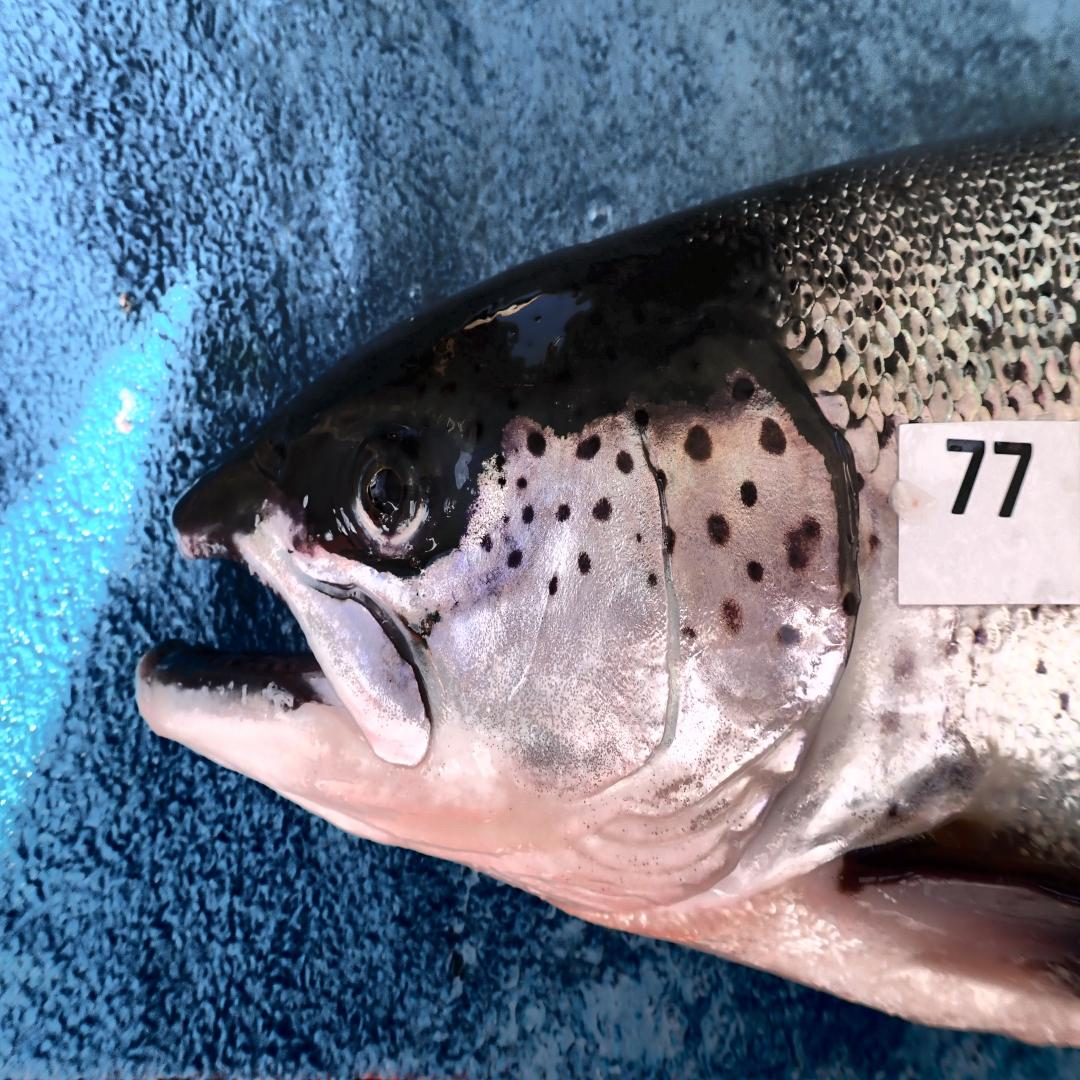spot: (785, 515, 823, 571), (683, 425, 713, 461), (759, 419, 787, 456), (721, 598, 744, 636), (707, 513, 730, 546), (732, 374, 755, 402), (776, 624, 802, 647), (576, 436, 601, 459), (527, 430, 546, 456), (740, 480, 757, 507), (593, 498, 612, 522), (842, 591, 859, 616), (616, 450, 633, 472), (747, 560, 764, 582), (507, 549, 523, 569), (635, 407, 650, 428), (578, 551, 591, 574), (521, 504, 534, 524), (657, 468, 668, 491), (667, 528, 676, 556), (558, 504, 570, 523), (681, 626, 697, 640), (482, 534, 493, 552), (495, 455, 506, 472), (648, 573, 659, 589), (549, 576, 558, 595), (517, 477, 527, 489), (497, 477, 507, 488), (636, 532, 643, 543), (504, 516, 510, 524)
